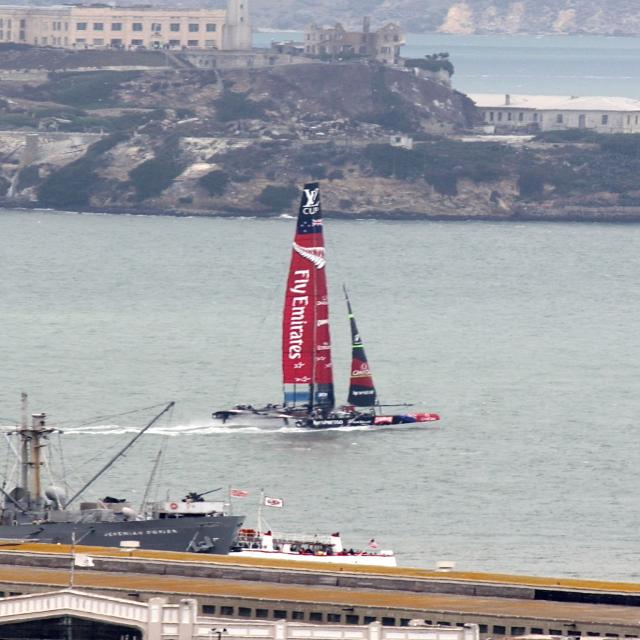Boat: (212, 179, 426, 446)
